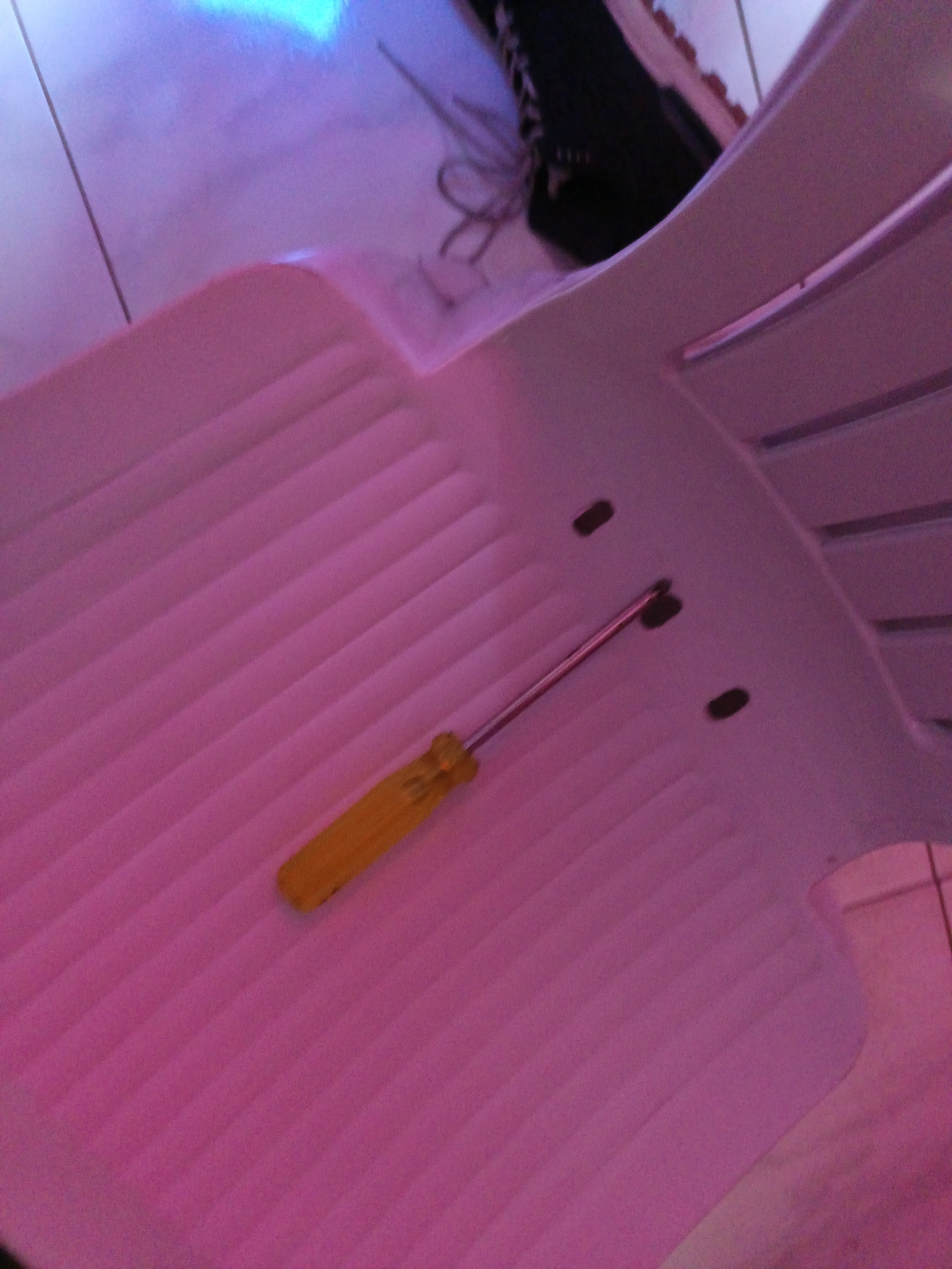Destornillador: (278, 580, 670, 911)
